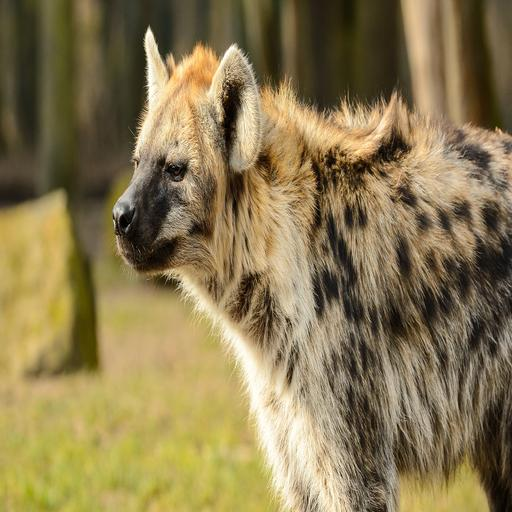Hyena: (109, 28, 512, 510)
